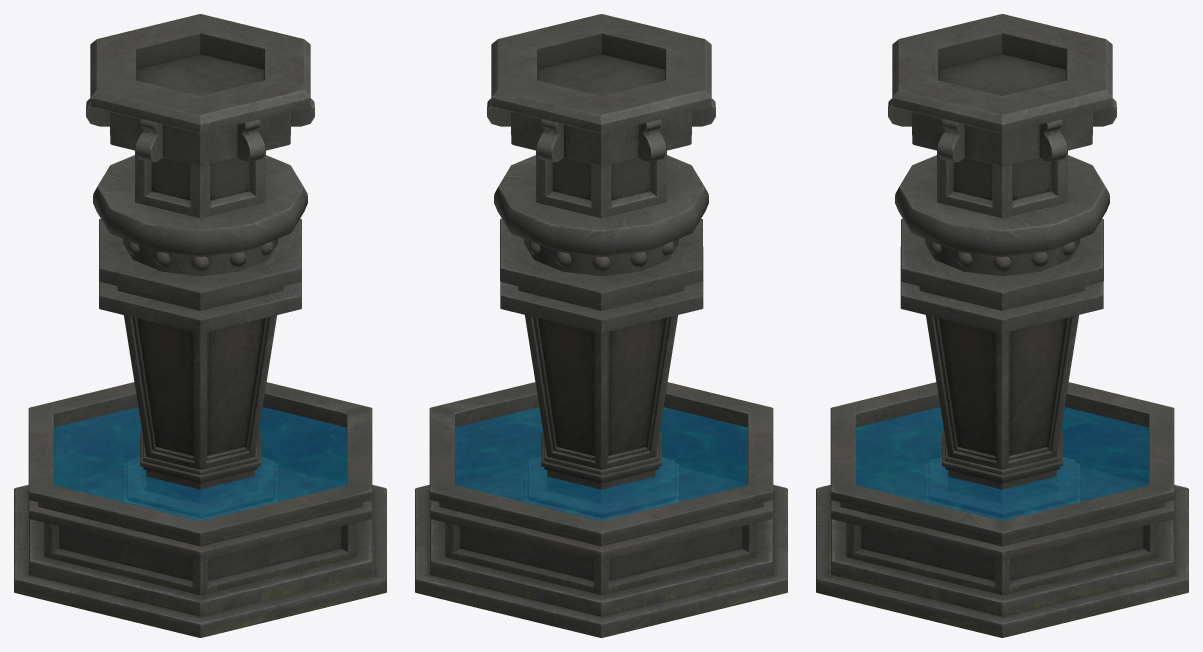
File: Fountain_1.glb
3 views of the same model, side by side, from view 1: azimuth 30°, elevation 25°; view 2: azimuth 150°, elevation 25°; view 3: azimuth 270°, elevation 25° (orthographic).
Parts seen in each view (by area): view 1: Fountain_1__LOD3; view 2: Fountain_1__LOD3; view 3: Fountain_1__LOD3.
Part boxes in pixels (x1=…): Fountain_1__LOD3: x1=14, y1=14, x2=386, y2=637; Fountain_1__LOD3: x1=415, y1=14, x2=787, y2=637; Fountain_1__LOD3: x1=816, y1=14, x2=1188, y2=637.
Size of the model in its own units: 2.42 by 3.01 by 2.1.
Materials: 1 (1 with a texture image).
